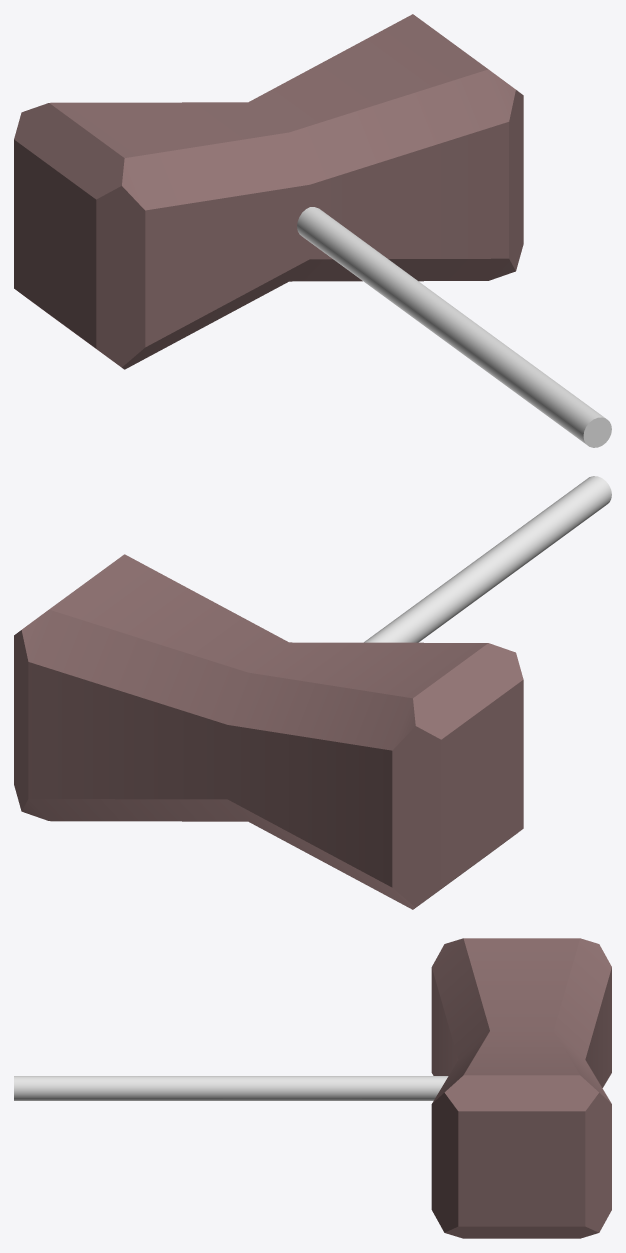
Rendered from hammer.fbx.
The picture shows the model from 3 angles, top to bottom: view 1: azimuth 30°, elevation 25°; view 2: azimuth 150°, elevation 25°; view 3: azimuth 270°, elevation 25°; orthographic projection. The views are drawn at different scales.
Visible parts, largest first — view 1: pCylinder2; view 2: pCylinder2; view 3: pCylinder2.
Boxes of the visible parts, x1,y1,x2,y2 form: pCylinder2: [14, 14, 611, 447]; pCylinder2: [14, 476, 611, 909]; pCylinder2: [14, 938, 611, 1238].
Bounding box in the file's own units: 30 × 14.2 × 47.1.
